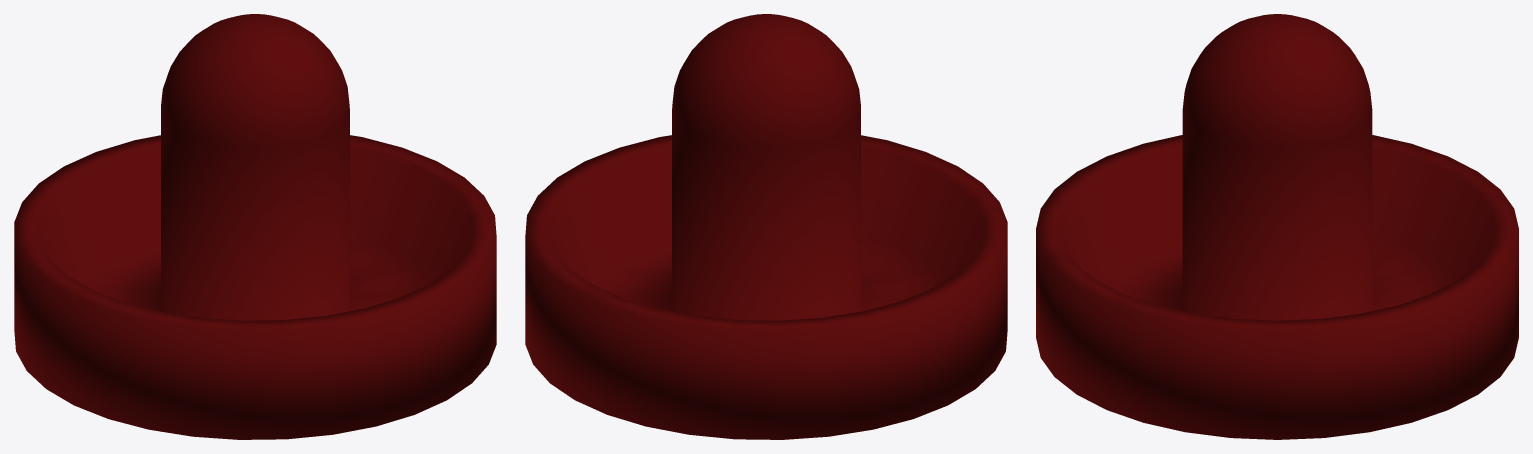
Rendered from paddle.obj.
3 renders of one model, left to right at view 1: azimuth 30°, elevation 25°; view 2: azimuth 150°, elevation 25°; view 3: azimuth 270°, elevation 25°, orthographic.
Visible parts, largest first — view 1: Mesh_Cylinder; view 2: Mesh_Cylinder; view 3: Mesh_Cylinder.
Part boxes in pixels (x1,y1,x2,y2): Mesh_Cylinder: [14, 14, 496, 439]; Mesh_Cylinder: [525, 14, 1007, 439]; Mesh_Cylinder: [1036, 14, 1518, 439].
Bounding box in the file's own units: 2 × 1.44 × 2.
